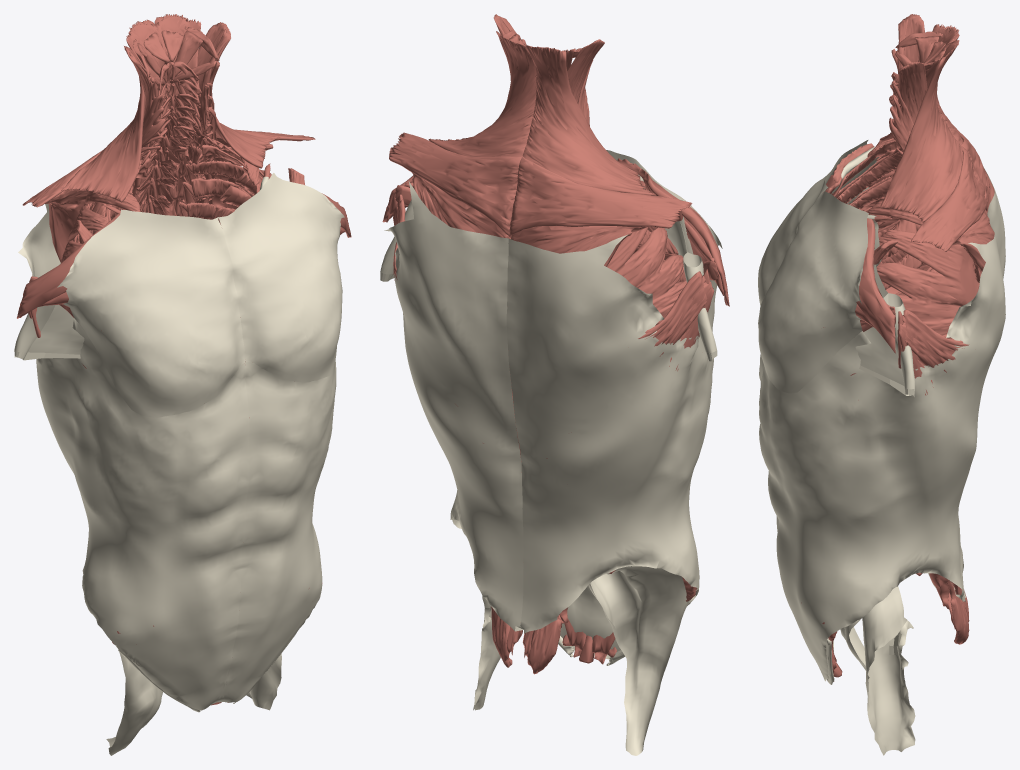
File: muscles-trunk-back.glb
3 views of the same model, side by side, from view 1: azimuth 30°, elevation 25°; view 2: azimuth 150°, elevation 25°; view 3: azimuth 270°, elevation 25° (orthographic). The views are drawn at different scales.
Visible parts, largest first — view 1: Investing abdominal fascia.r.001, Pectoral fascia.r.001, Investing abdominal fascia.l.001, Pectoral fascia.l.001, Ascending part of trapezius muscle.r.001, Clavipectoral fascia.r.001, External intercostal muscles.l.001, Iliopsoas fascia.r.001, Ascending part of trapezius muscle.l.001, Clavicular head of pectoralis major muscle.r.001, Descending part of trapezius muscle.r.001, Serratus anterior muscle.r.001 (+12 smaller); view 2: Investing abdominal fascia.r.001, Investing abdominal fascia.l.001, Iliopsoas fascia.r.001, Ascending part of trapezius muscle.r.001, Transverse part of trapezius muscle.r.001, Transverse part of trapezius muscle.l.001, Ascending part of trapezius muscle.l.001, Serratus anterior muscle.r.001, Latissimus dorsi muscle.r.001, Descending part of trapezius muscle.r.001, Descending part of trapezius muscle.l.001, Clavipectoral fascia.r.001 (+9 smaller); view 3: Investing abdominal fascia.l.001, Pectoral fascia.l.001, Serratus anterior muscle.l.001, Ascending part of trapezius muscle.l.001, Iliopsoas fascia.l.001, Transverse part of trapezius muscle.l.001, Clavipectoral fascia.l.001, Latissimus dorsi muscle.l.001, Pectoral fascia.r.001, Clavicular head of pectoralis major muscle.l.001, Innermost intercostal muscles.r.001, Splenius capitis muscle.l.001 (+12 smaller).
Part boxes in pixels (x1=…): Investing abdominal fascia.r.001: x1=18, y1=204, x2=249, y2=710; Pectoral fascia.r.001: x1=57, y1=209, x2=245, y2=417; Investing abdominal fascia.l.001: x1=217, y1=360, x2=336, y2=702; Pectoral fascia.l.001: x1=218, y1=173, x2=344, y2=382; Ascending part of trapezius muscle.r.001: x1=61, y1=19, x2=172, y2=202; Clavipectoral fascia.r.001: x1=14, y1=304, x2=84, y2=360; External intercostal muscles.l.001: x1=186, y1=144, x2=263, y2=218; Iliopsoas fascia.r.001: x1=106, y1=652, x2=162, y2=755; Ascending part of trapezius muscle.l.001: x1=154, y1=14, x2=279, y2=168; Clavicular head of pectoralis major muscle.r.001: x1=17, y1=214, x2=119, y2=318; Descending part of trapezius muscle.r.001: x1=45, y1=190, x2=87, y2=261; Serratus anterior muscle.r.001: x1=60, y1=191, x2=141, y2=368; Investing abdominal fascia.r.001: x1=506, y1=234, x2=713, y2=659; Investing abdominal fascia.l.001: x1=384, y1=181, x2=574, y2=650; Iliopsoas fascia.r.001: x1=588, y1=566, x2=687, y2=755; Ascending part of trapezius muscle.r.001: x1=522, y1=45, x2=655, y2=195; Transverse part of trapezius muscle.r.001: x1=509, y1=156, x2=692, y2=237; Transverse part of trapezius muscle.l.001: x1=389, y1=132, x2=522, y2=237; Ascending part of trapezius muscle.l.001: x1=428, y1=35, x2=536, y2=156; Serratus anterior muscle.r.001: x1=607, y1=226, x2=686, y2=325; Latissimus dorsi muscle.r.001: x1=546, y1=269, x2=714, y2=458; Descending part of trapezius muscle.r.001: x1=511, y1=226, x2=647, y2=266; Descending part of trapezius muscle.l.001: x1=412, y1=172, x2=520, y2=450; Clavipectoral fascia.r.001: x1=638, y1=174, x2=717, y2=361; Investing abdominal fascia.l.001: x1=759, y1=225, x2=1005, y2=681; Pectoral fascia.l.001: x1=758, y1=187, x2=868, y2=393; Serratus anterior muscle.l.001: x1=850, y1=200, x2=979, y2=400; Ascending part of trapezius muscle.l.001: x1=879, y1=40, x2=963, y2=222; Iliopsoas fascia.l.001: x1=862, y1=586, x2=915, y2=755; Transverse part of trapezius muscle.l.001: x1=911, y1=145, x2=987, y2=251; Clavipectoral fascia.l.001: x1=855, y1=214, x2=915, y2=396; Latissimus dorsi muscle.l.001: x1=897, y1=310, x2=969, y2=595; Pectoral fascia.r.001: x1=758, y1=140, x2=868, y2=305; Clavicular head of pectoralis major muscle.l.001: x1=856, y1=218, x2=895, y2=353; Innermost intercostal muscles.r.001: x1=837, y1=150, x2=907, y2=264; Splenius capitis muscle.l.001: x1=898, y1=62, x2=927, y2=123.
Bounding box in the file's own units: 0.4003 × 0.7928 × 0.2581.
